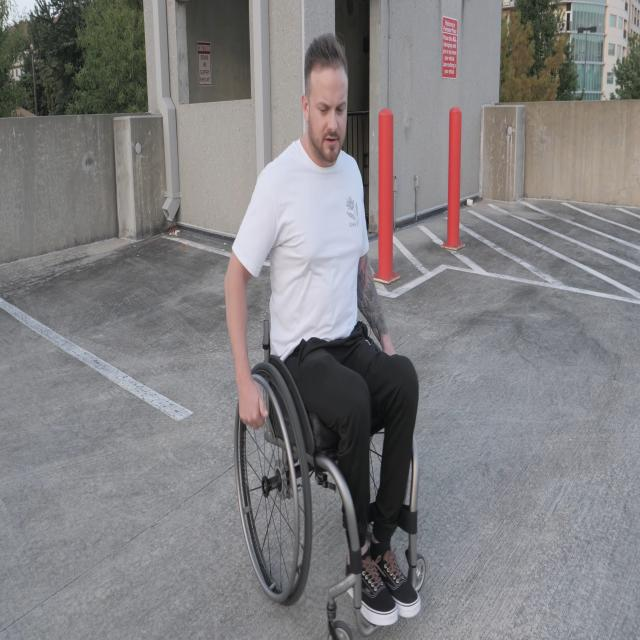wheelchairs: (234, 237, 427, 640)
